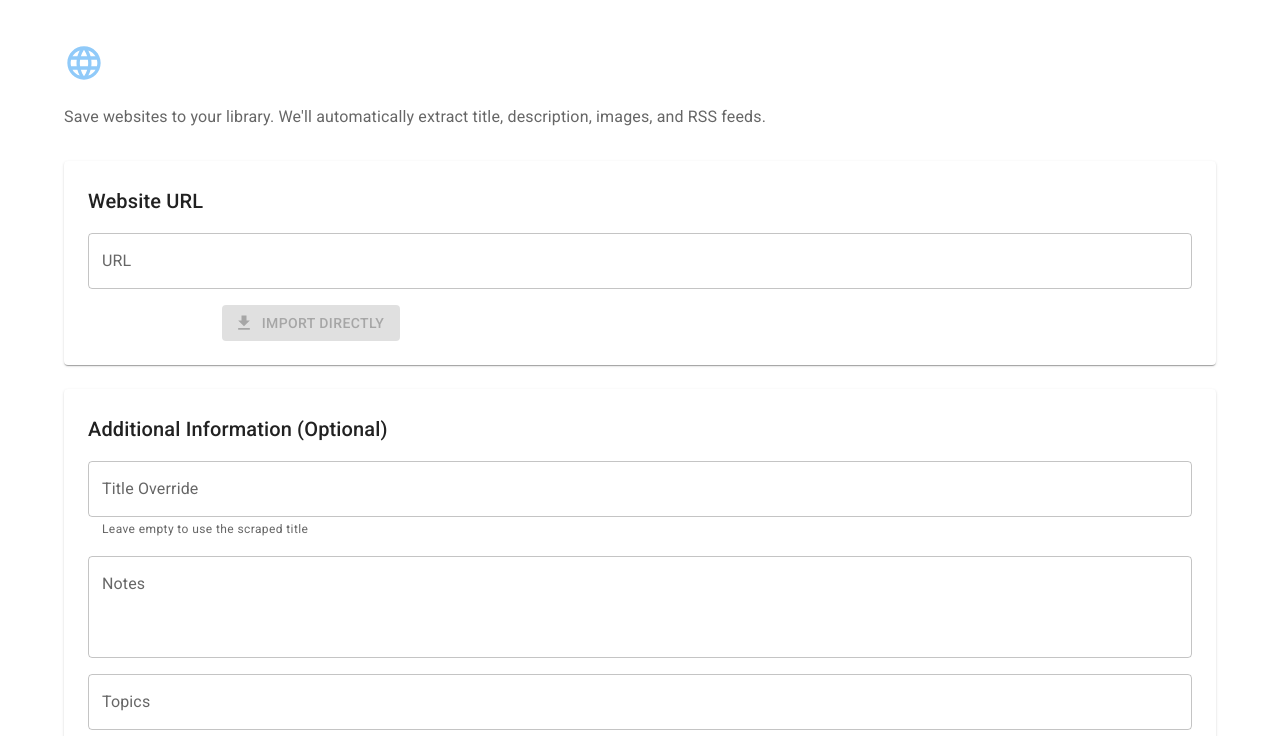
Test: WebsiteImportPage › should display error message when import fails
The width and height of the screenshot is (1280, 736).
Type "https://test.com" into the field with placeholder "https://example.com" at (640,261), box [88,233,1192,289]
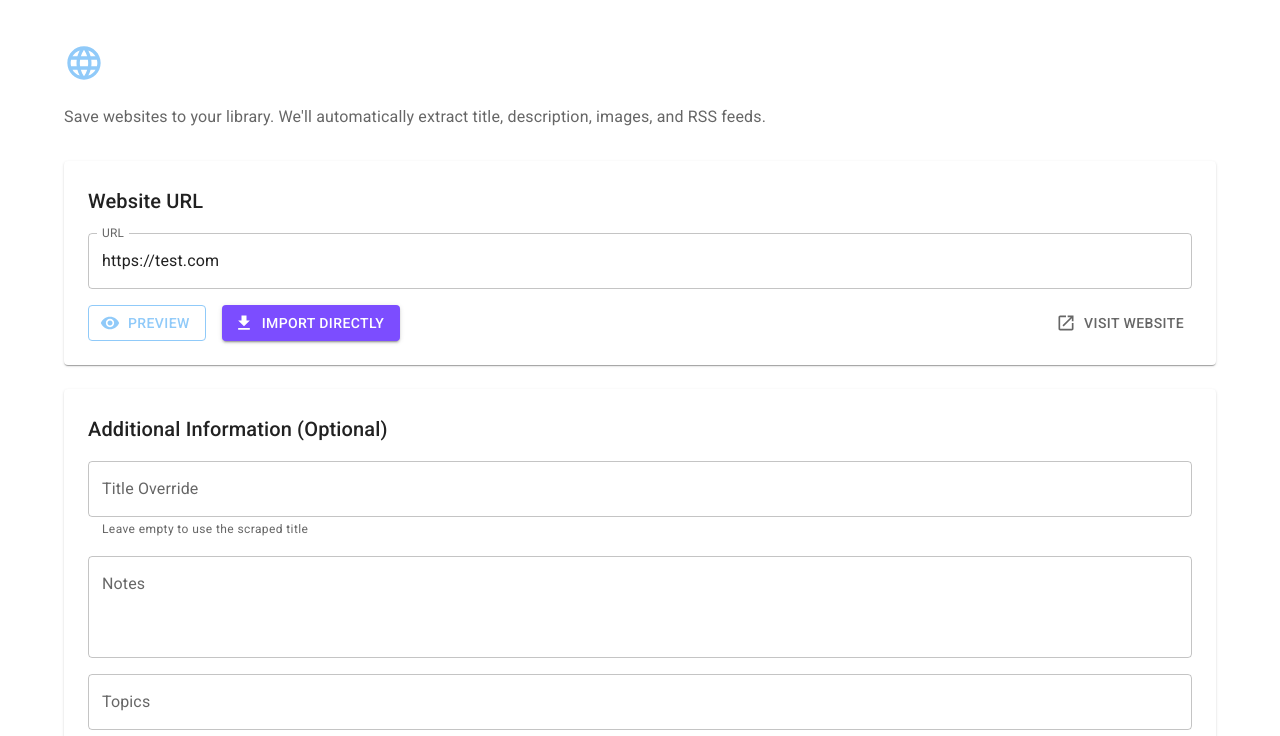
Click the button "Import Directly" at (311,323), box [222,305,400,341]
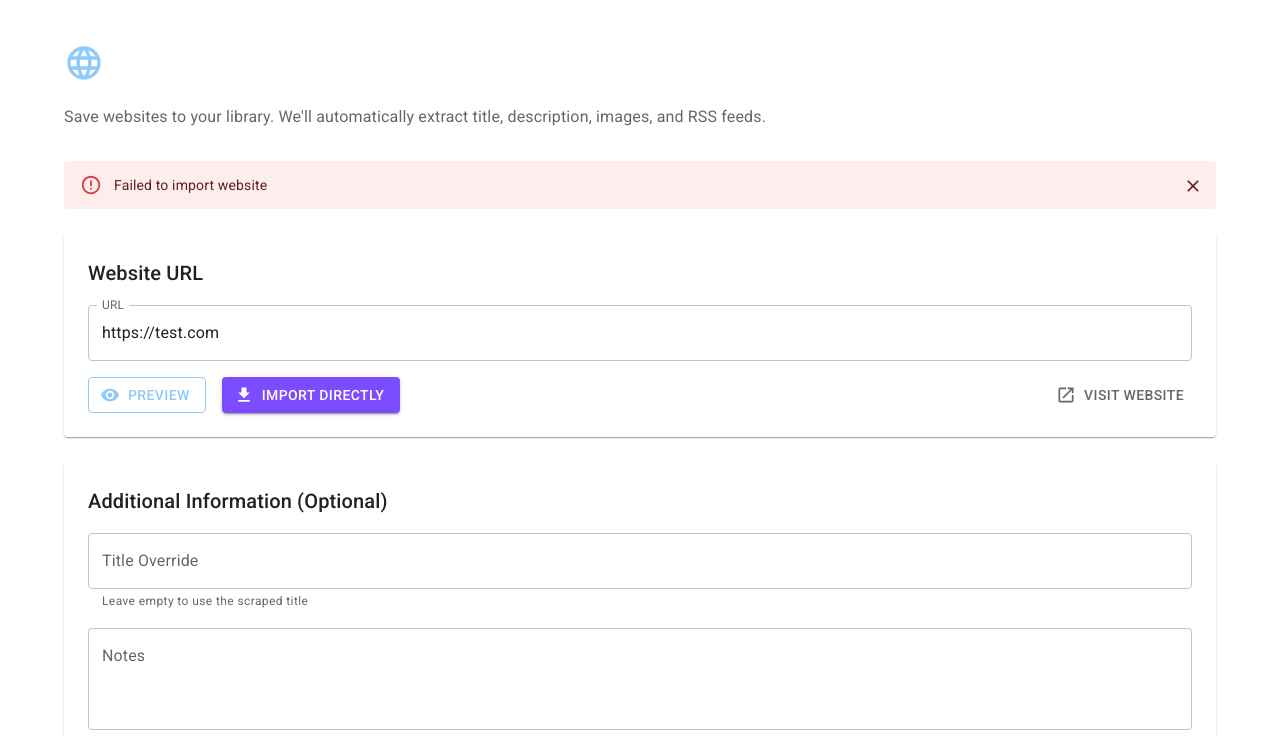
Expected: the text "Failed to import website" is shown, [114,177,267,193]
